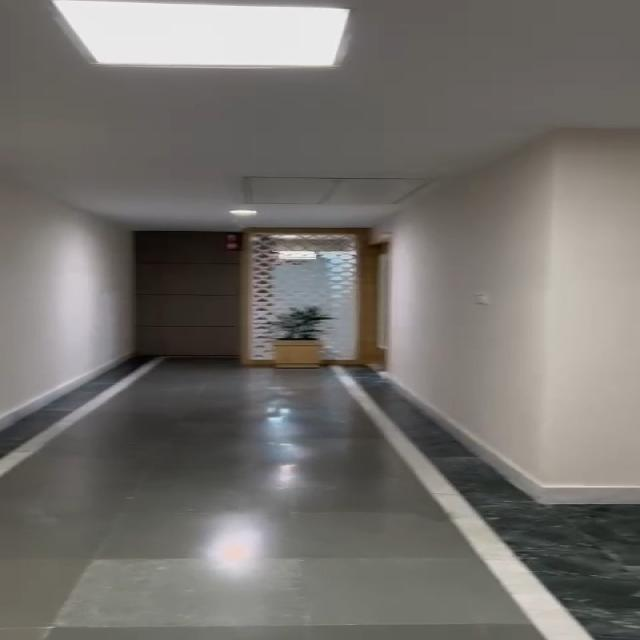door: (147, 233, 386, 369)
floor: (70, 397, 458, 640)
furniture: (272, 296, 354, 375)
wall: (404, 4, 626, 453), (17, 15, 134, 402)
